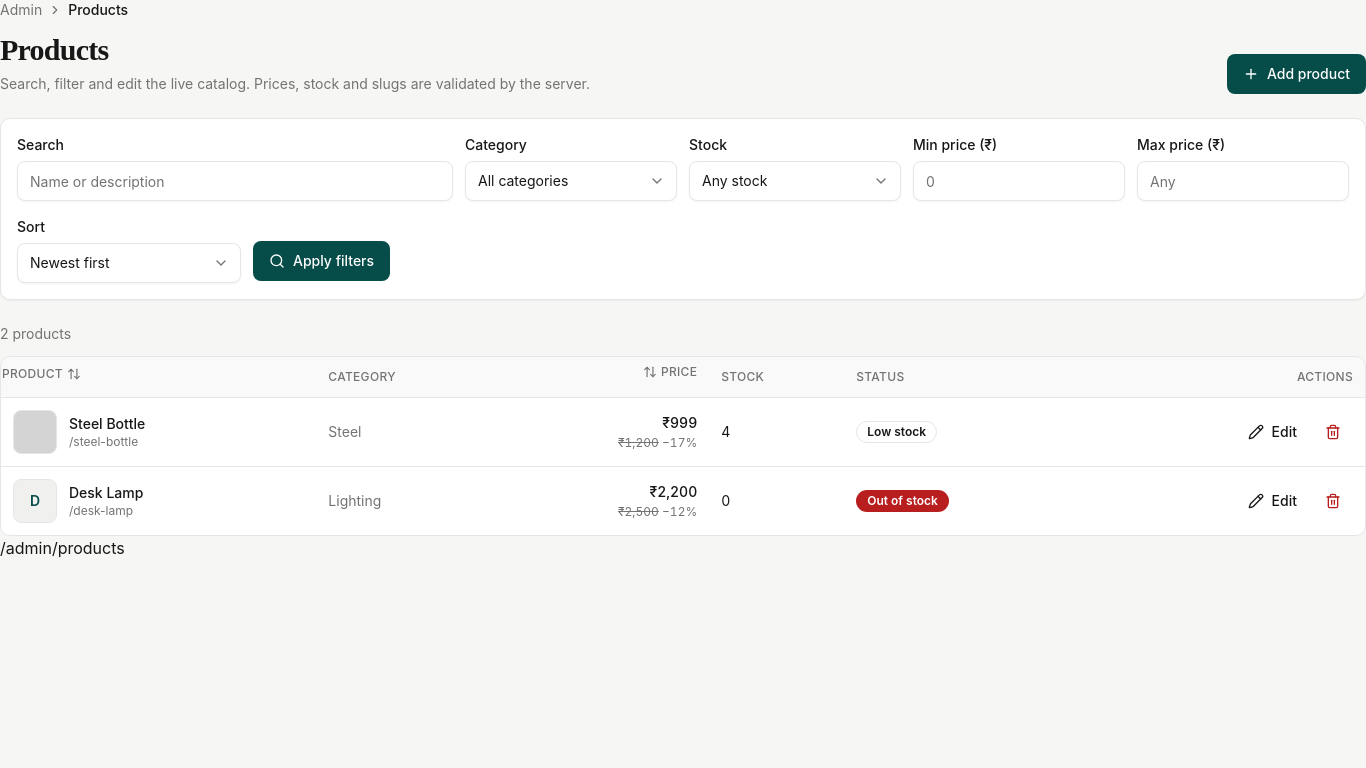
it: AdminProductsPage › confirms a destructive delete and reports the server response
Click the button named "Delete Steel Bottle" at {"x": 1333, "y": 432}, box [1313,412,1353,452]
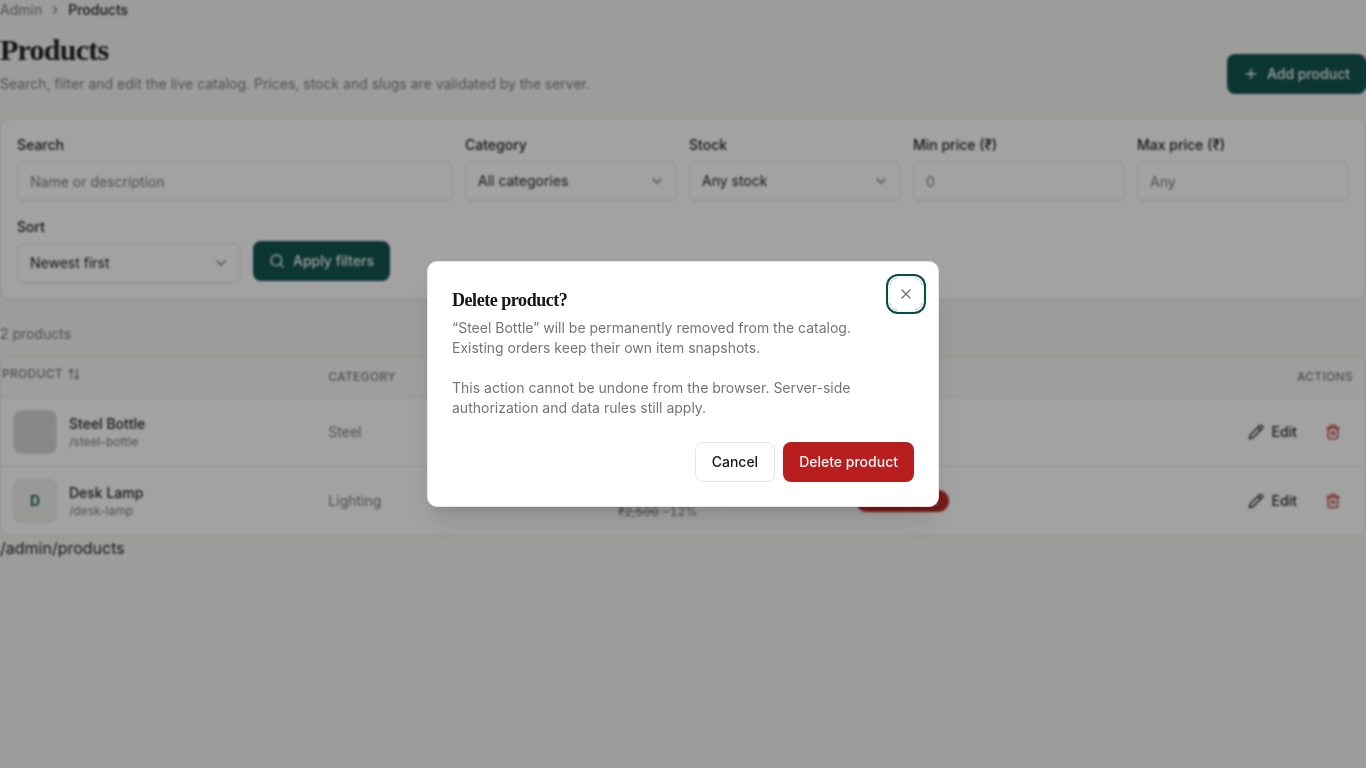
Check: the heading "Delete product?" is shown, box [452,290,567,310]
Check: the text "permanently removed" is shown, box [452,319,851,356]
Click the button "Delete product" at {"x": 849, "y": 462}, box [783,442,914,482]
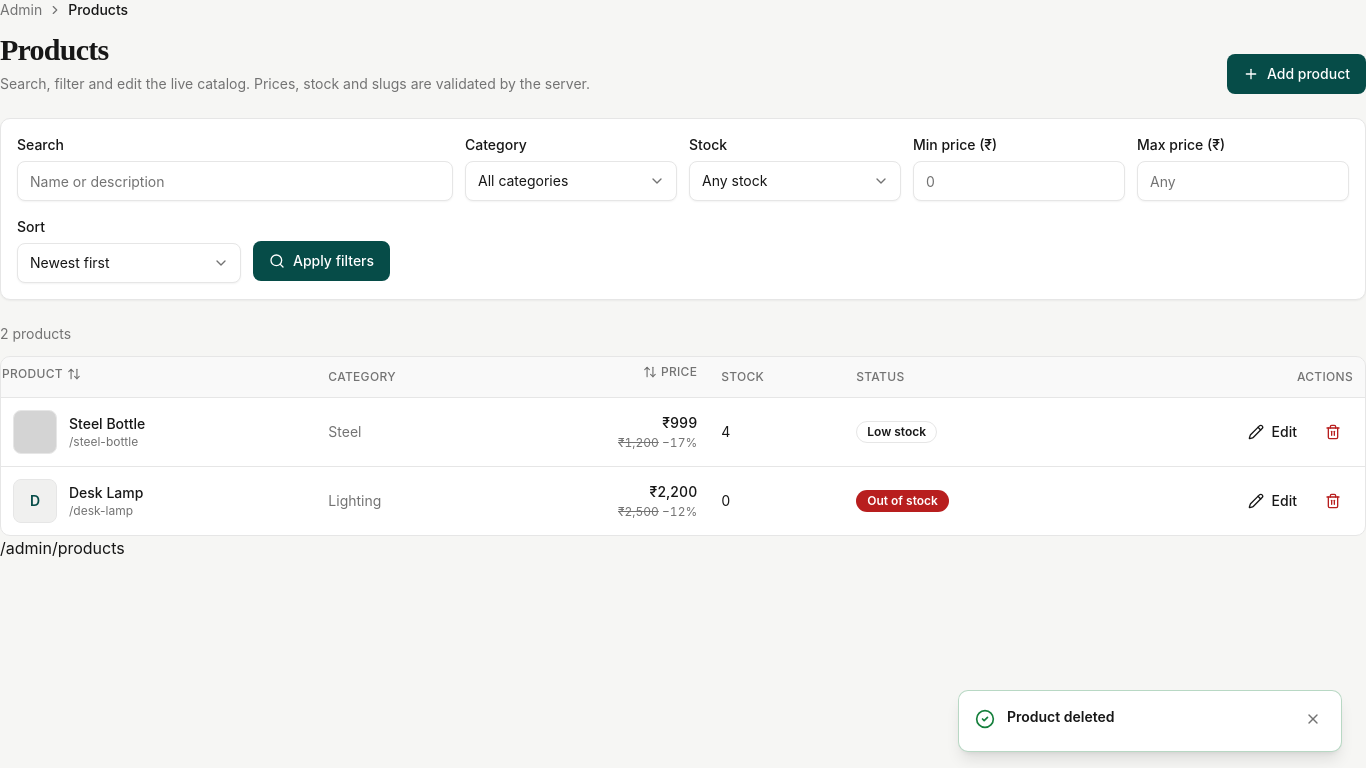
Check: the text "Product deleted" is shown, box [1007,708,1114,725]
